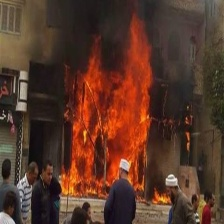fire: (63, 22, 153, 200), (150, 188, 175, 206), (177, 127, 192, 154)
